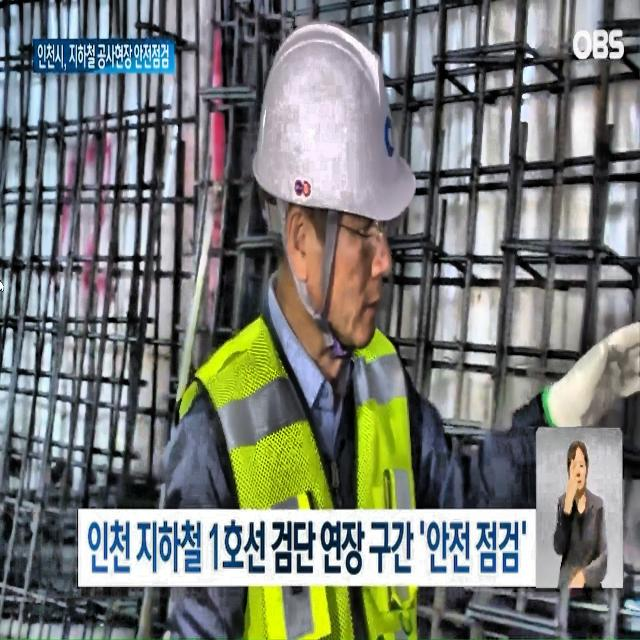safety_helmet: (252, 15, 416, 223)
safety_jacket: (189, 317, 419, 640)
